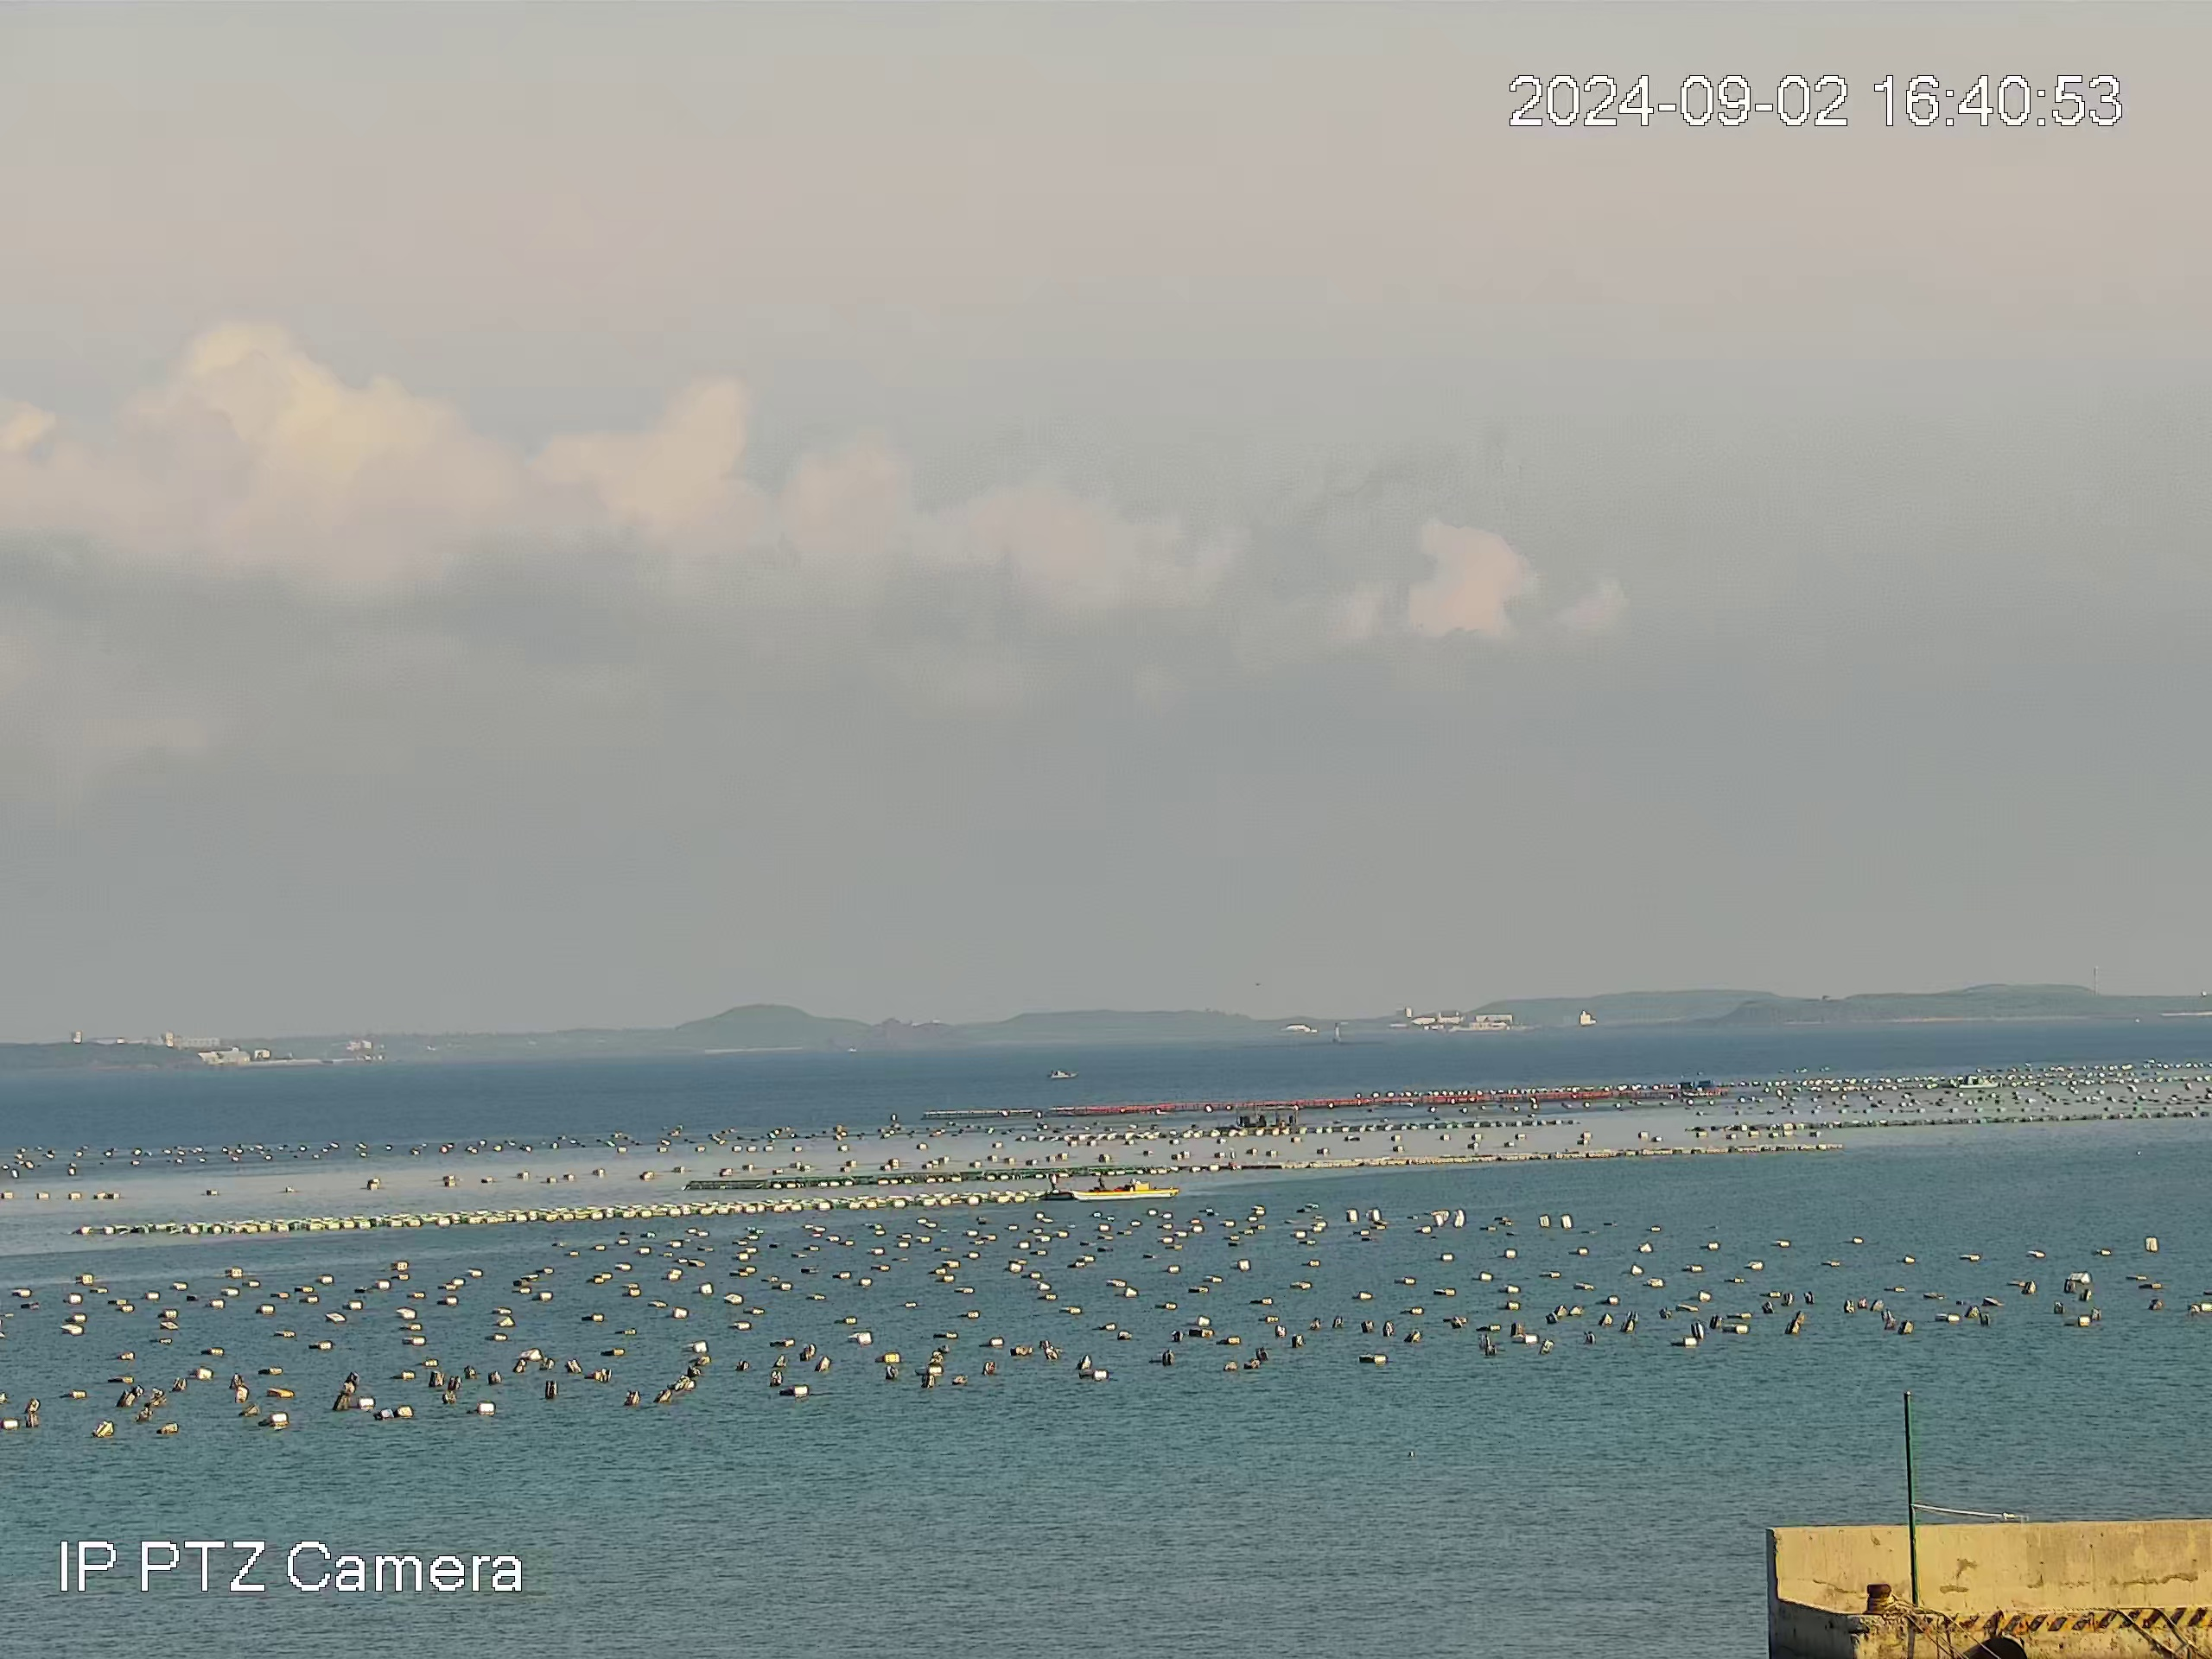boat: (1038, 1173, 1179, 1203), (1233, 1103, 1300, 1130), (1956, 1073, 1999, 1090), (1048, 1067, 1079, 1080)
